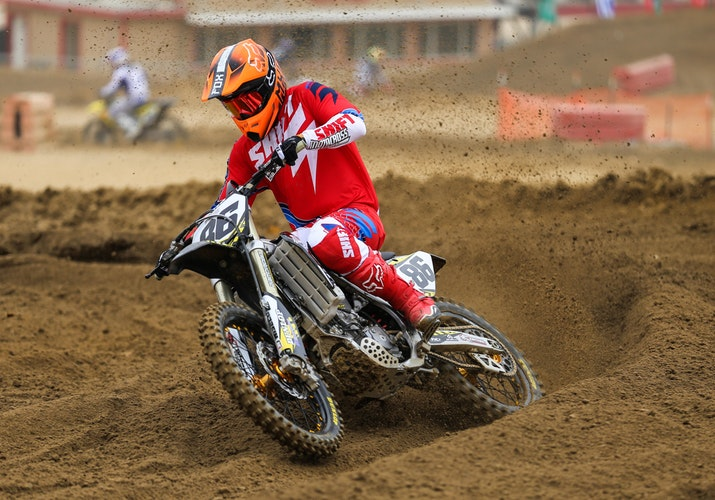helmet: (203, 39, 293, 152)
